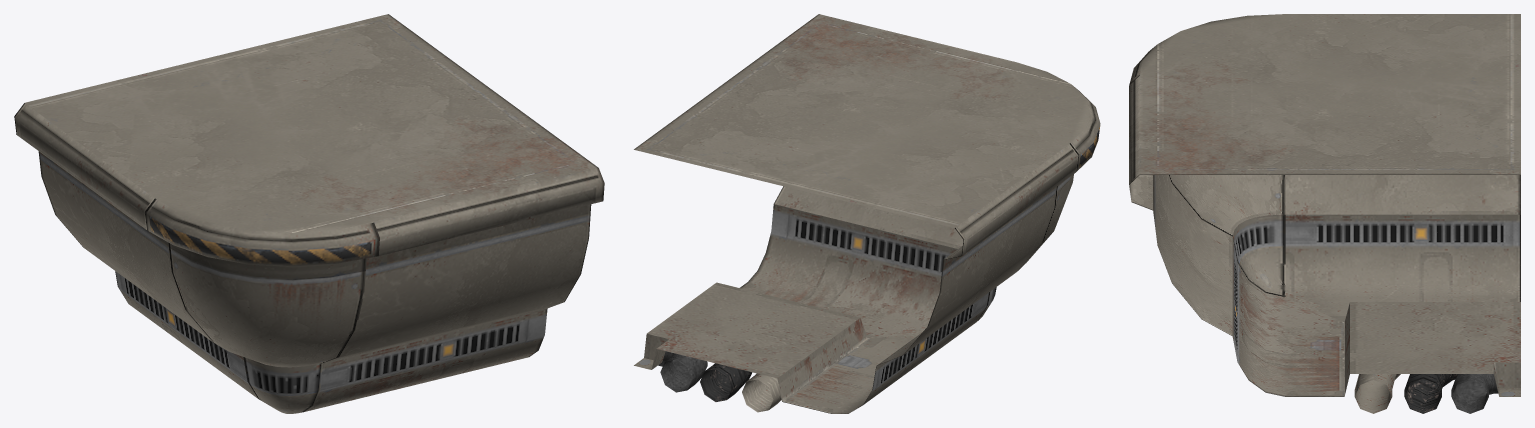
File: CP_Canopy_Industrial_Angle_01.fbx
The picture shows the model from 3 angles, left to right: view 1: azimuth 30°, elevation 25°; view 2: azimuth 150°, elevation 25°; view 3: azimuth 270°, elevation 25°; orthographic projection. The views are drawn at different scales.
Parts seen in each view (by area): view 1: CP_Canopy_Industrial_Angle_01_LOD0; view 2: CP_Canopy_Industrial_Angle_01_LOD0; view 3: CP_Canopy_Industrial_Angle_01_LOD0.
Boxes of the visible parts, x1,y1,x2,y2 form: CP_Canopy_Industrial_Angle_01_LOD0: (14, 14, 604, 413); CP_Canopy_Industrial_Angle_01_LOD0: (634, 14, 1100, 413); CP_Canopy_Industrial_Angle_01_LOD0: (1129, 14, 1520, 413).
Size of what is drawn, in the model's own units: 160 by 108 by 160.
